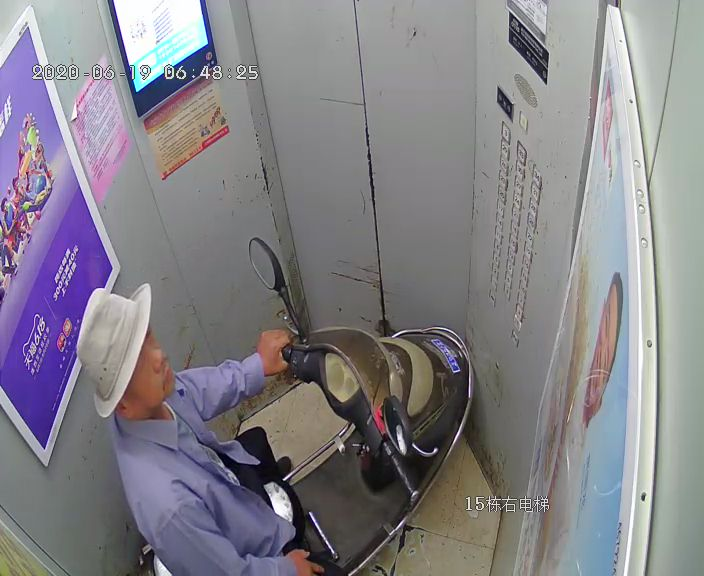Electric-bicycle: (150, 237, 466, 574)
